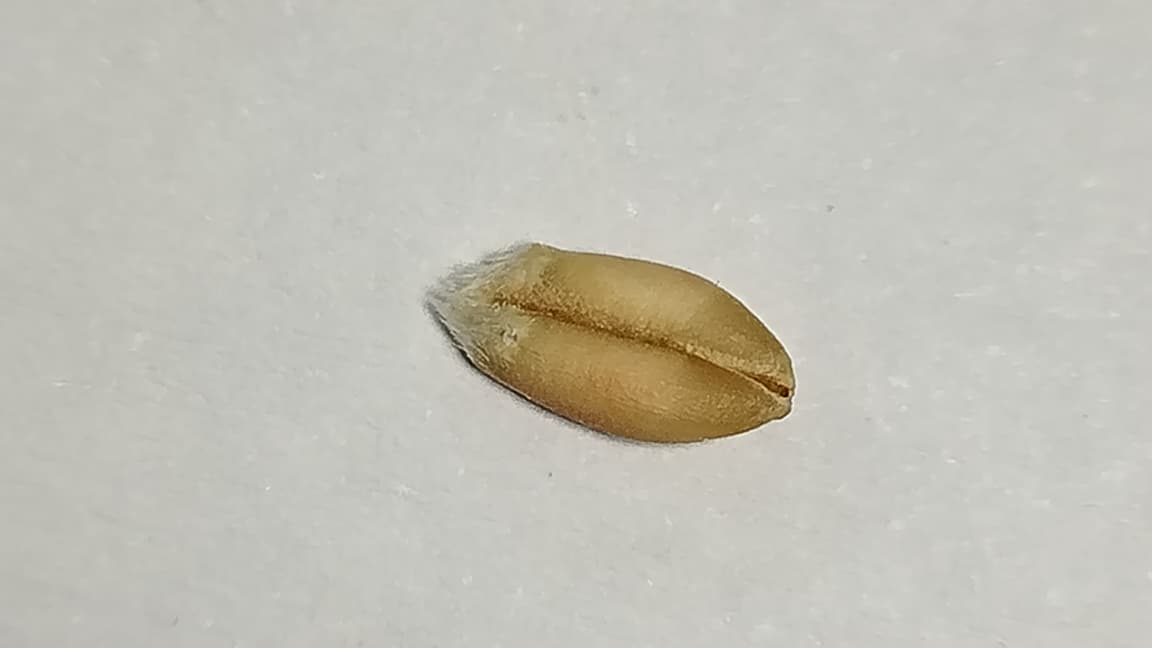healthy: (431, 242, 793, 440)
